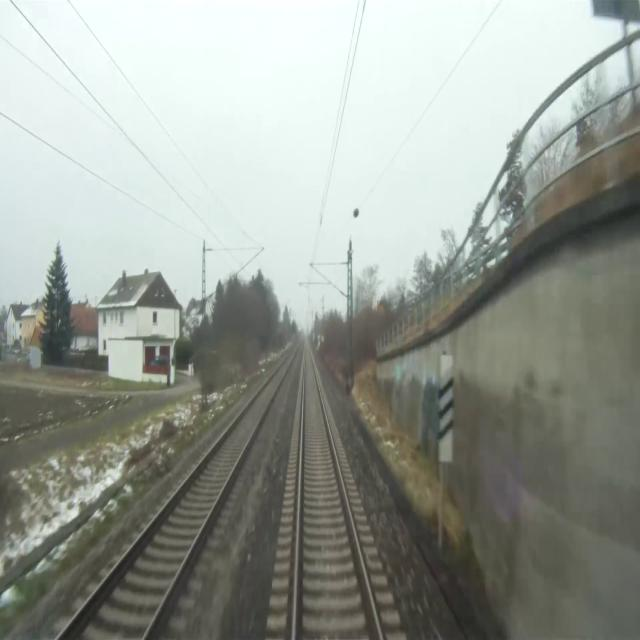rail-track: (64, 354, 293, 639), (296, 341, 378, 639)
